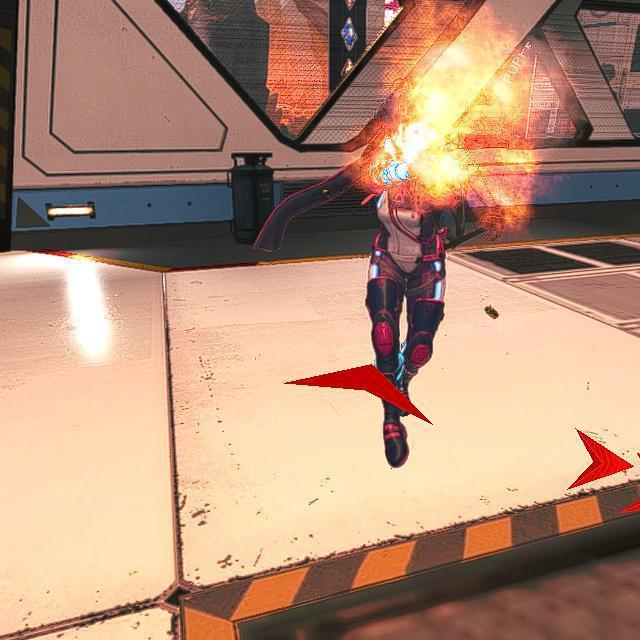avatar: (363, 188, 449, 471)
